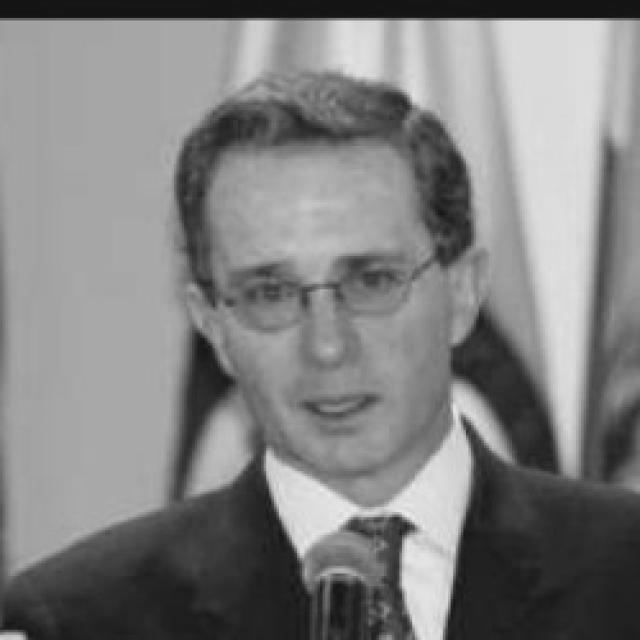real: (174, 83, 504, 466), (209, 245, 422, 330)
